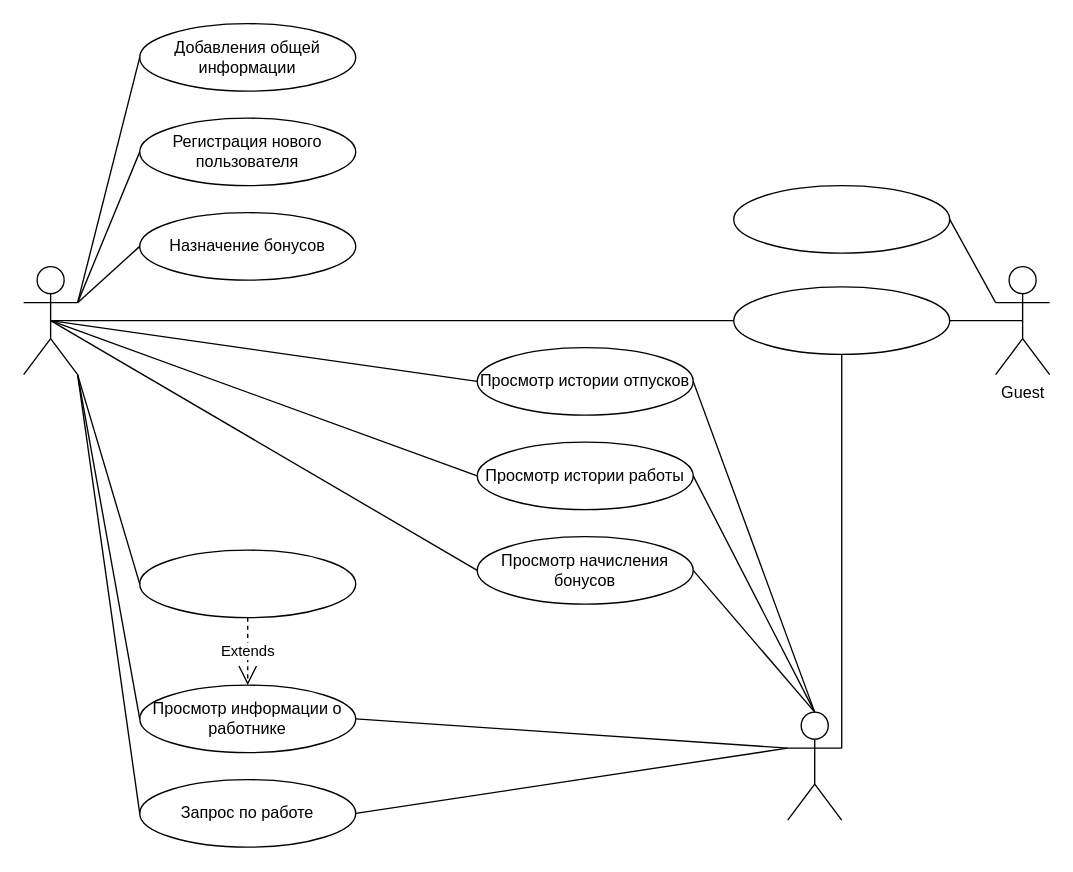
This 1073x872 diagram has some shape labels left out. Each missing label, with the centre of its shape:
Admin: the point at 50,320
User: the point at 814,765
Авторизация: the point at 841,218
Просмотр общей информации: the point at 841,320
Просмотр списка работников: the point at 247,583
